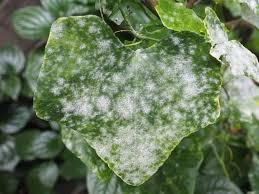powdery_mildew: (21, 12, 235, 179)
